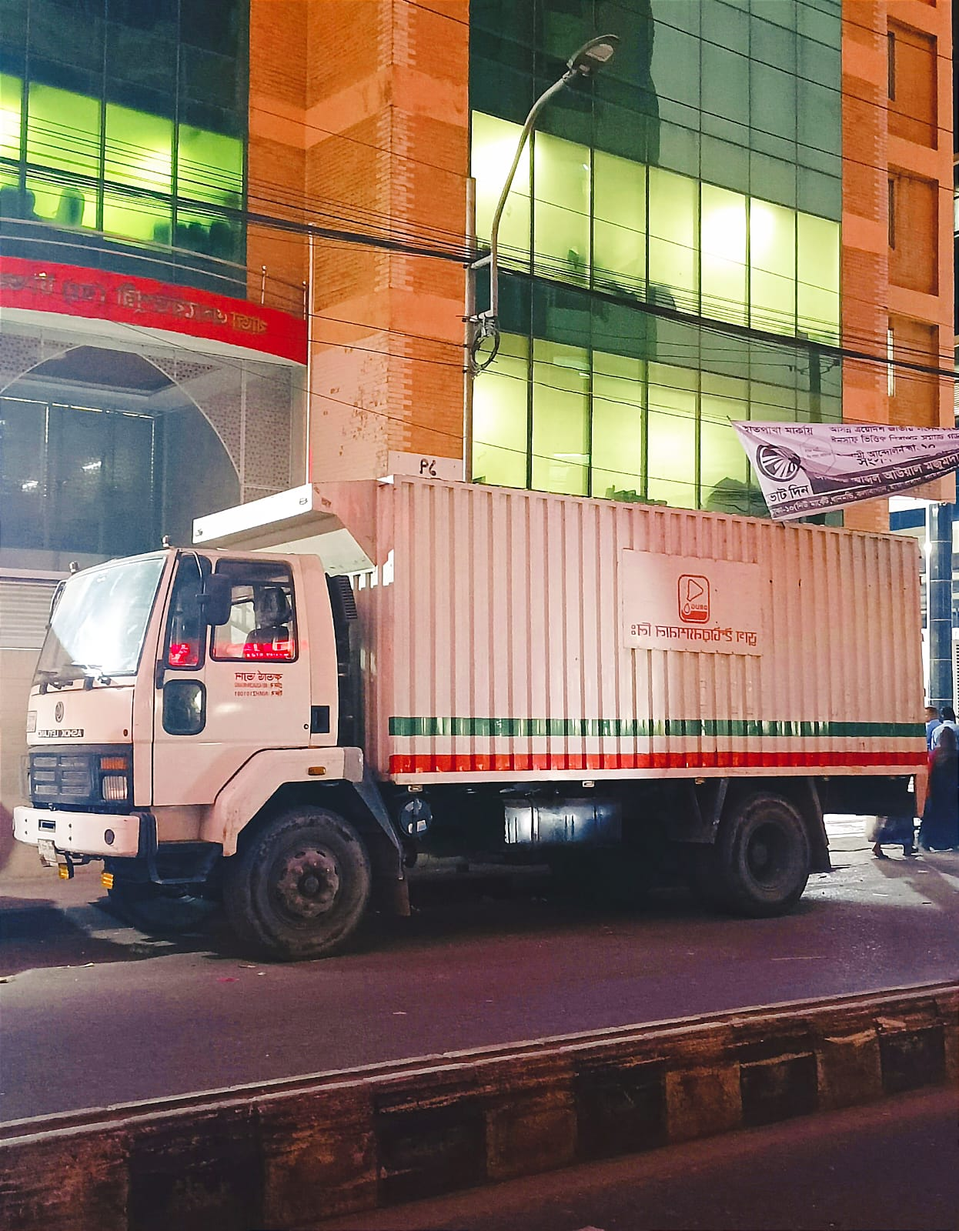Truck: (8, 463, 930, 961)
